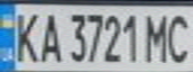1: (121, 10, 142, 63)
2: (103, 10, 124, 63)
3: (63, 9, 87, 63)
7: (84, 9, 106, 63)
A: (36, 8, 63, 63)
C: (163, 9, 193, 64)
K: (6, 8, 42, 64)
M: (142, 9, 175, 64)
